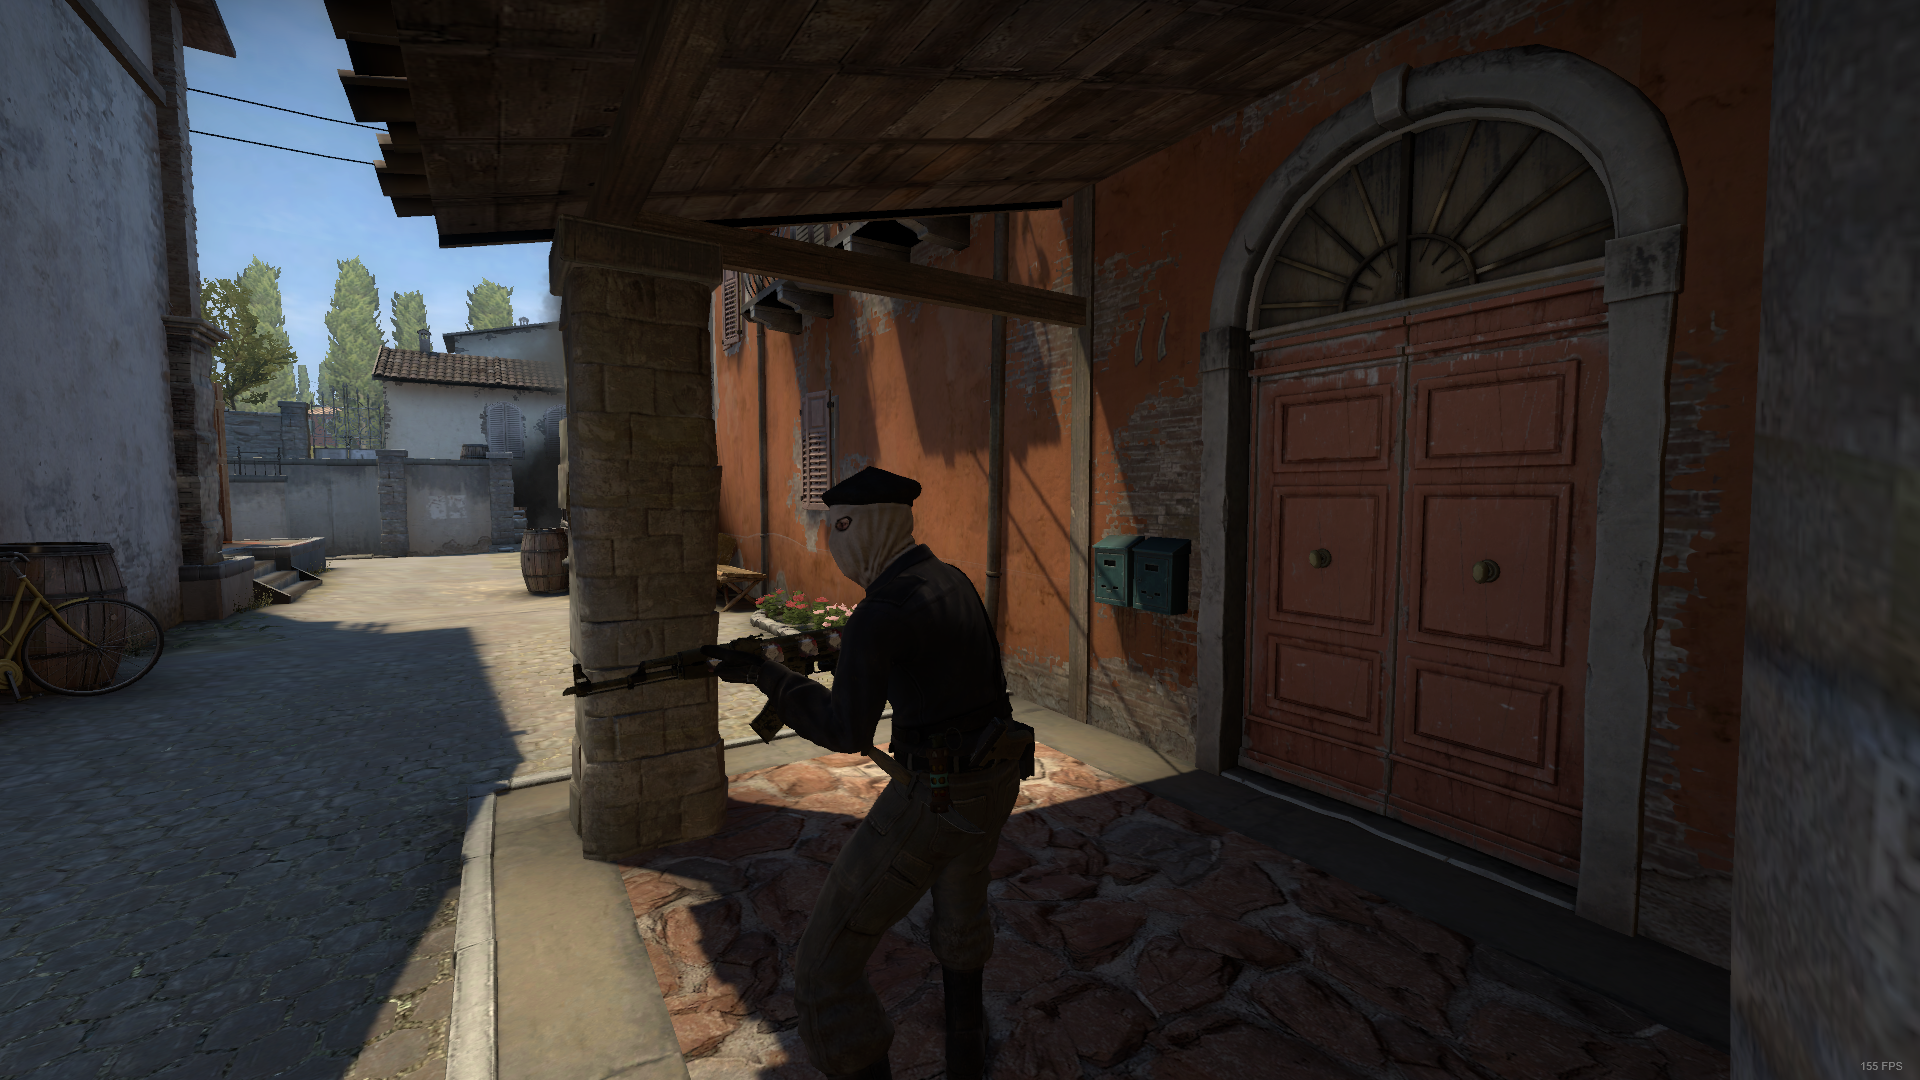t: (756, 463, 1043, 1080)
